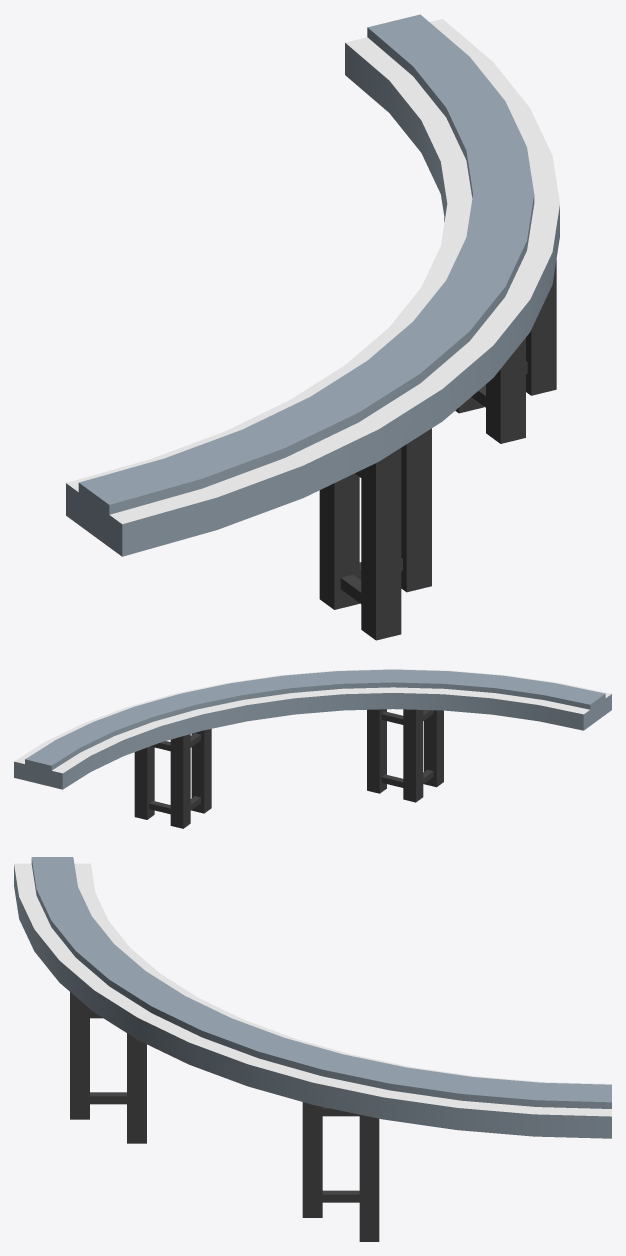
File: monorailTrack_cornerLarge_exclusive.fbx
The picture shows the model from 3 angles, top to bottom: view 1: azimuth 30°, elevation 25°; view 2: azimuth 150°, elevation 25°; view 3: azimuth 270°, elevation 25°; orthographic projection. The views are drawn at different scales.
Parts seen in each view (by area): view 1: monorailTrack_cornerLarge_exclusive; view 2: monorailTrack_cornerLarge_exclusive; view 3: monorailTrack_cornerLarge_exclusive.
Boxes of the visible parts, <box> form: monorailTrack_cornerLarge_exclusive: <box>66,14,559,640</box>; monorailTrack_cornerLarge_exclusive: <box>14,669,611,828</box>; monorailTrack_cornerLarge_exclusive: <box>14,857,611,1241</box>.
Bounding box in the file's own units: 16.03 × 4.61 × 16.03.
